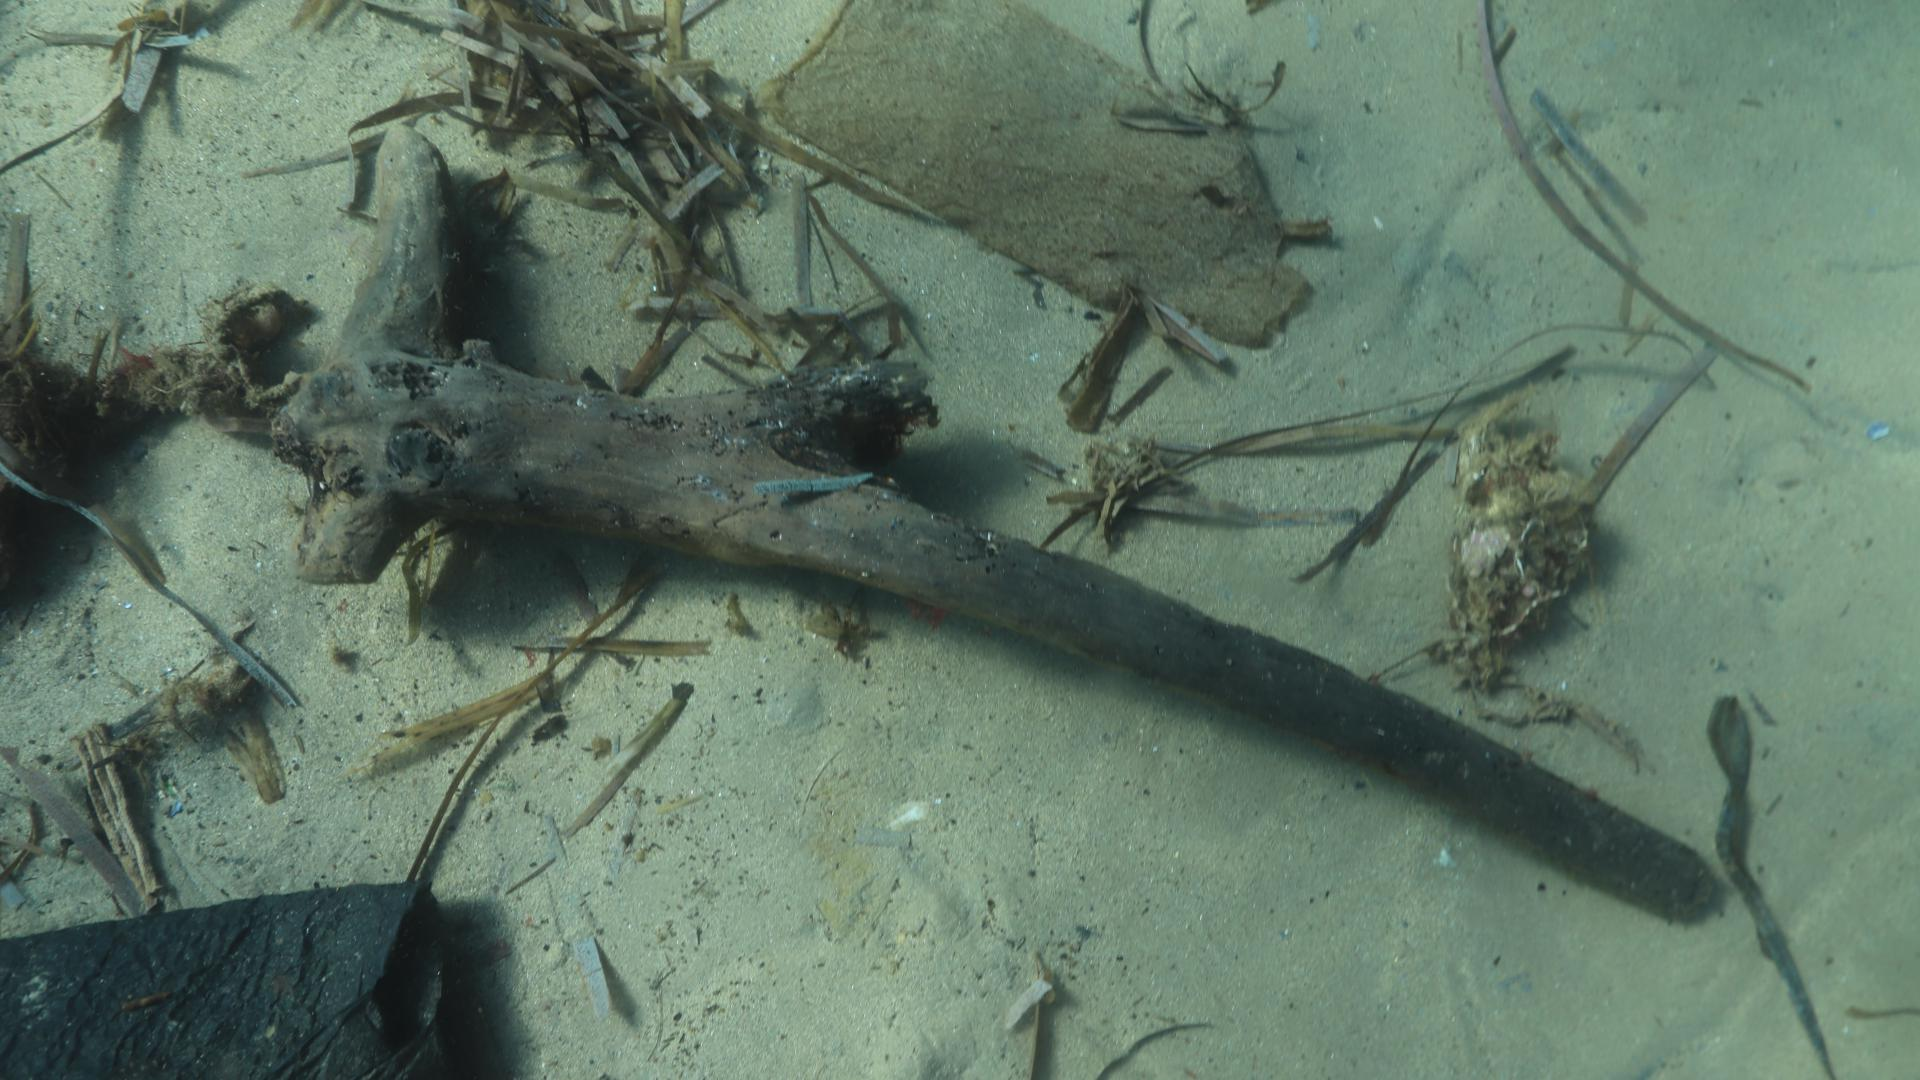wood: (272, 121, 1724, 930), (771, 5, 1313, 348)
